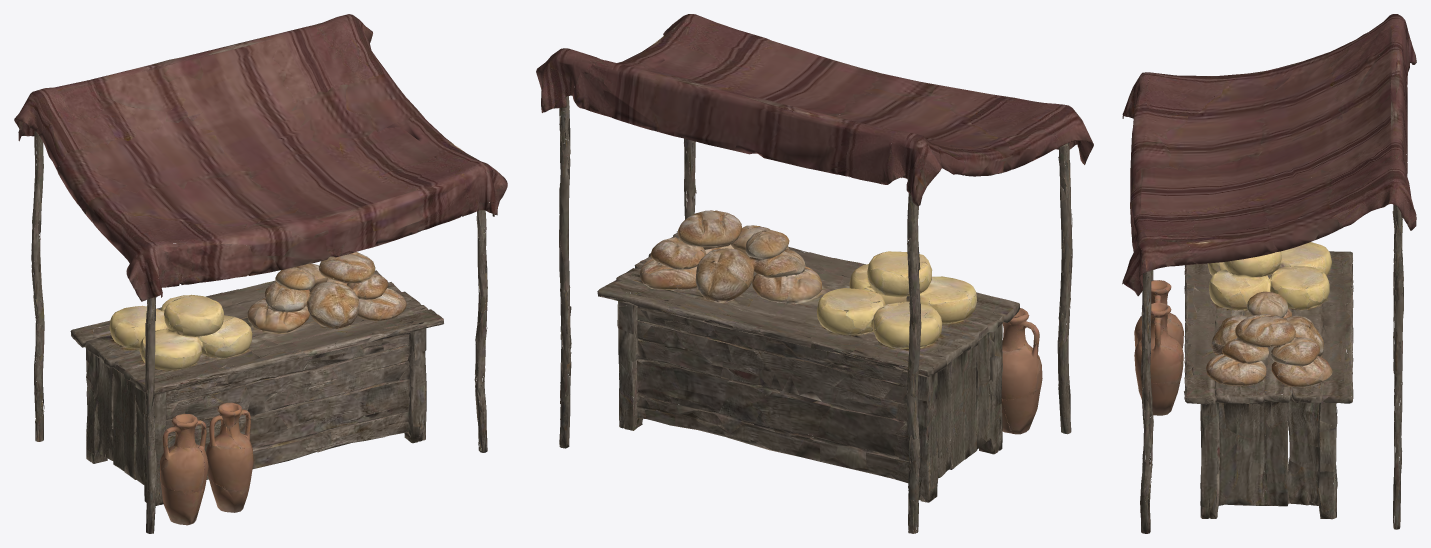
The model's file is market-stall.glb.
The picture shows the model from 3 angles, left to right: view 1: azimuth 30°, elevation 25°; view 2: azimuth 150°, elevation 25°; view 3: azimuth 270°, elevation 25°; orthographic projection. The views are drawn at different scales.
Parts seen in each view (by area): view 1: Mesh_0; view 2: Mesh_0; view 3: Mesh_0.
Boxes of the visible parts, bbox=[...] form: Mesh_0: bbox=[14, 14, 507, 533]; Mesh_0: bbox=[536, 14, 1093, 533]; Mesh_0: bbox=[1122, 14, 1416, 533].
Bounding box in the file's own units: 2.03 × 1.8 × 1.34.
1 material, 1 textured.
